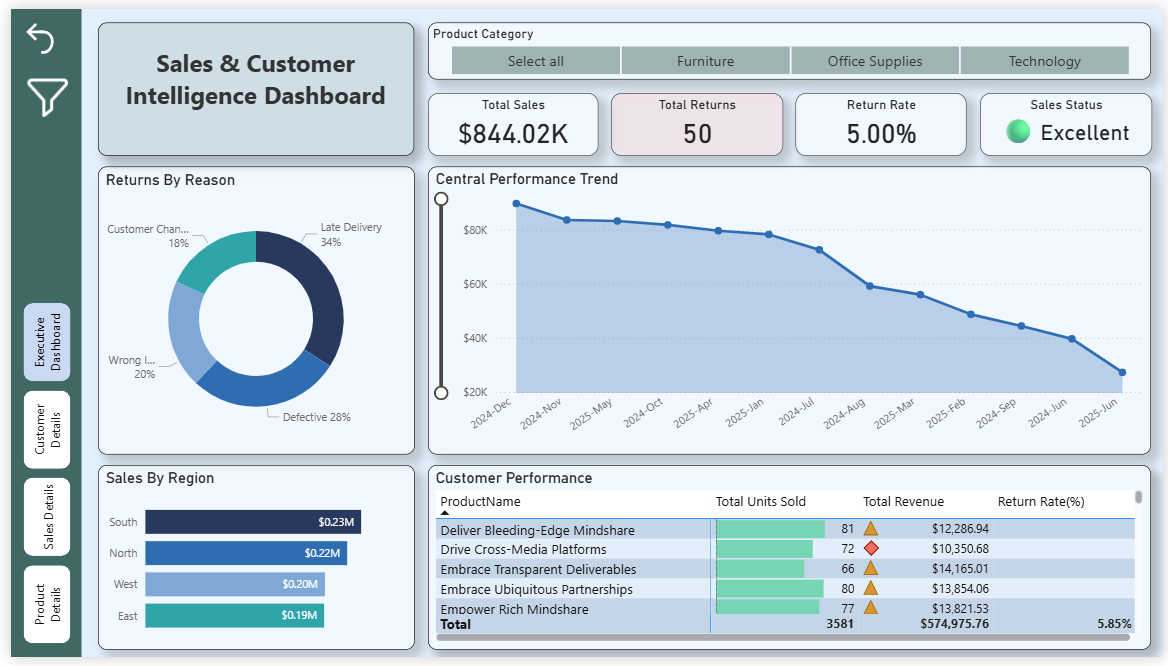

What the dashboard file says about the page in this screenshot:
{"tool":"powerbi","page":{"name":"Executive Dashboard","canvas":[1280,720],"ordinal":0},"visuals":[{"type":"slicer","title":"Product Category","fields":{"Values":["Product_Dim.Category"]},"box":[463.3,14.4,803.3,63.3],"z":0},{"type":"card","title":"Total Returns","fields":{"Values":["Measure_Table.Total Returns"]},"box":[666,93,191,70],"z":1000},{"type":"card","title":"Total Sales","fields":{"Values":["Measure_Table.Total Sales"]},"box":[464,93,189,70],"z":2000},{"type":"card","title":"Return Rate","fields":{"Values":["Measure_Table.Return Rate(%)"]},"box":[872,93,190,70],"z":3000},{"type":"card","title":"Sales Status","fields":{"Values":["Measure_Table.Sales Status"]},"box":[1076,93,191,70],"z":4000},{"type":"barChart","title":"Sales By Region","fields":{"Category":["Region_Dim.RegionName"],"Y":["Measure_Table.Total Sales"]},"box":[96.7,506.7,351.7,205],"z":5000},{"type":"donutChart","title":"Returns By Reason","fields":{"Category":["Returns_Fact.ReturnReason"],"Y":["Measure_Table.Total Returns"]},"box":[96.7,175,351.7,320],"z":6000},{"type":"shape","box":[0,0,78.3,720],"z":7000},{"type":"textbox","box":[97,15,351,148],"z":8000},{"type":"lineChart","title":"Central Performance Trend","fields":{"Category":["Date_Dim.YearMonth"],"Y":["Measure_Table.Total Sales"]},"box":[463.3,175,803.3,320],"z":9000},{"type":"pivotTable","title":"Customer Performance","fields":{"Rows":["Product_Dim.ProductName"],"Values":["Measure_Table.Total Units Sold","Measure_Table.Total Revenue","Measure_Table.Return Rate(%)"]},"box":[463.3,506.7,803.3,205],"z":10000},{"type":"actionButton","box":[10,10,78.3,45],"z":11000},{"type":"pageNavigator","box":[10,326.7,60,378.3],"z":12000},{"type":"actionButton","box":[10,66.7,78.3,61.7],"z":13000}]}

Visuals, with their boxes in screenshot pixels (x1, y1, x2, y2), scaled from the page's 1280x720 canvas onto the 1168x666 screenshot:
"Product Category" slicer: <region>423, 13, 1156, 72</region>
"Total Returns" card: <region>608, 86, 782, 151</region>
"Total Sales" card: <region>423, 86, 596, 151</region>
"Return Rate" card: <region>796, 86, 969, 151</region>
"Sales Status" card: <region>982, 86, 1156, 151</region>
"Sales By Region" barChart: <region>88, 469, 409, 658</region>
"Returns By Reason" donutChart: <region>88, 162, 409, 458</region>
shape: <region>0, 0, 71, 665</region>
textbox: <region>89, 14, 409, 151</region>
"Central Performance Trend" lineChart: <region>423, 162, 1156, 458</region>
"Customer Performance" pivotTable: <region>423, 469, 1156, 658</region>
actionButton: <region>9, 9, 81, 51</region>
pageNavigator: <region>9, 302, 64, 652</region>
actionButton: <region>9, 62, 81, 119</region>
